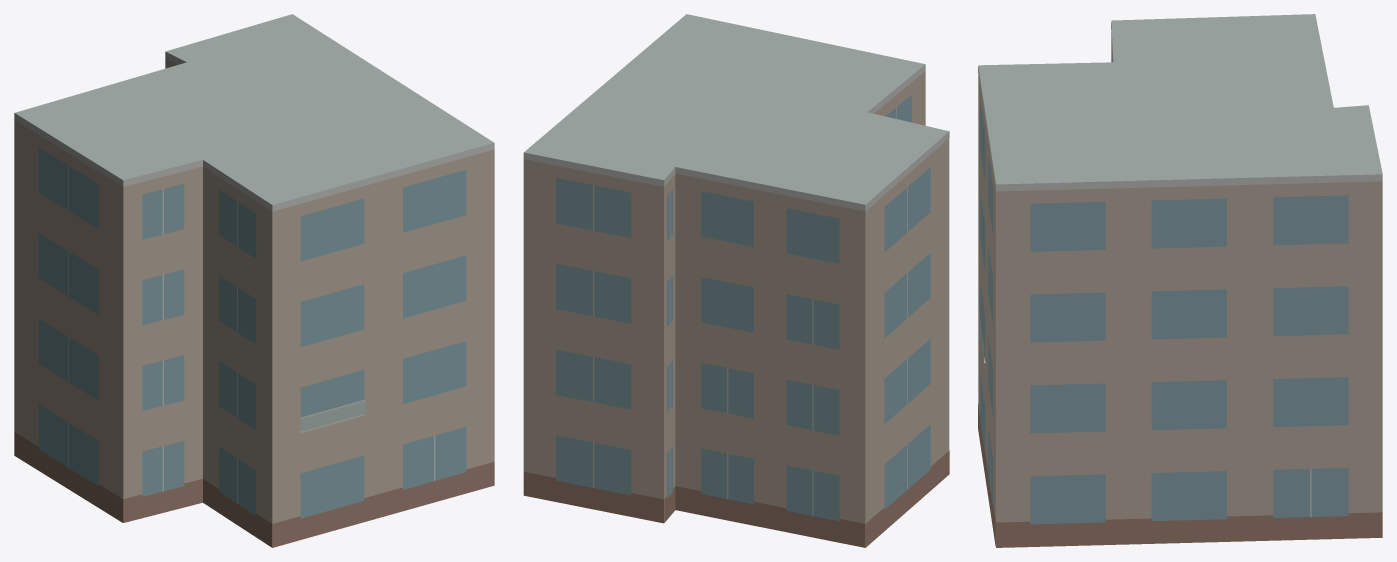
The model's file is survey-upis-32583959.glb.
3 renders of one model, left to right at view 1: azimuth 30°, elevation 25°; view 2: azimuth 150°, elevation 25°; view 3: azimuth 270°, elevation 25°, orthographic. The views are drawn at different scales.
Visible parts, largest first — view 1: survey-upis-32583959.tmp; view 2: survey-upis-32583959.tmp; view 3: survey-upis-32583959.tmp.
Boxes of the visible parts, box(x1,y1,x2,y2) form: survey-upis-32583959.tmp: box(14, 14, 494, 547); survey-upis-32583959.tmp: box(523, 14, 949, 547); survey-upis-32583959.tmp: box(978, 14, 1382, 547).
Bounding box in the file's own units: 12.63 × 12.55 × 12.68.
